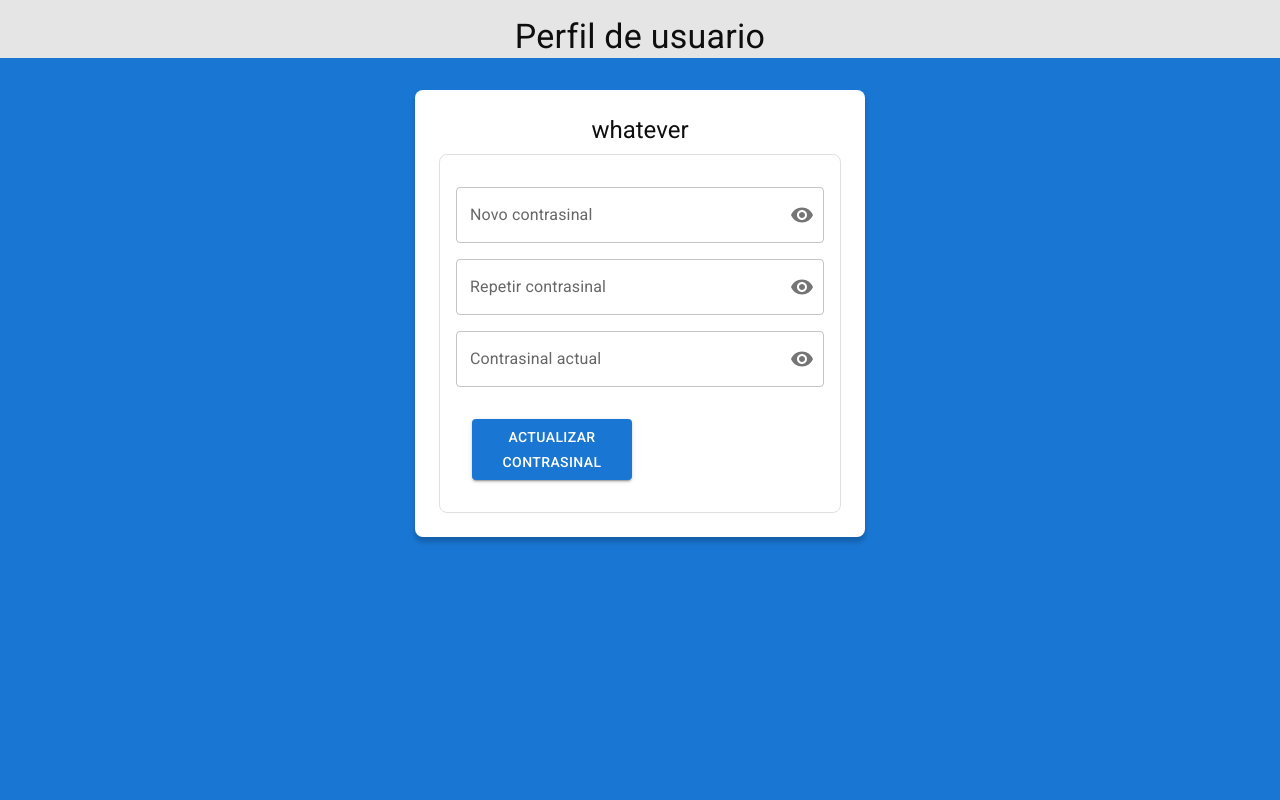
Test case: Profile › should display validation errors when form is submitted with invalid data
Click the button "Actualizar contrasinal" at coordinates (552, 450), box [472, 419, 632, 480]
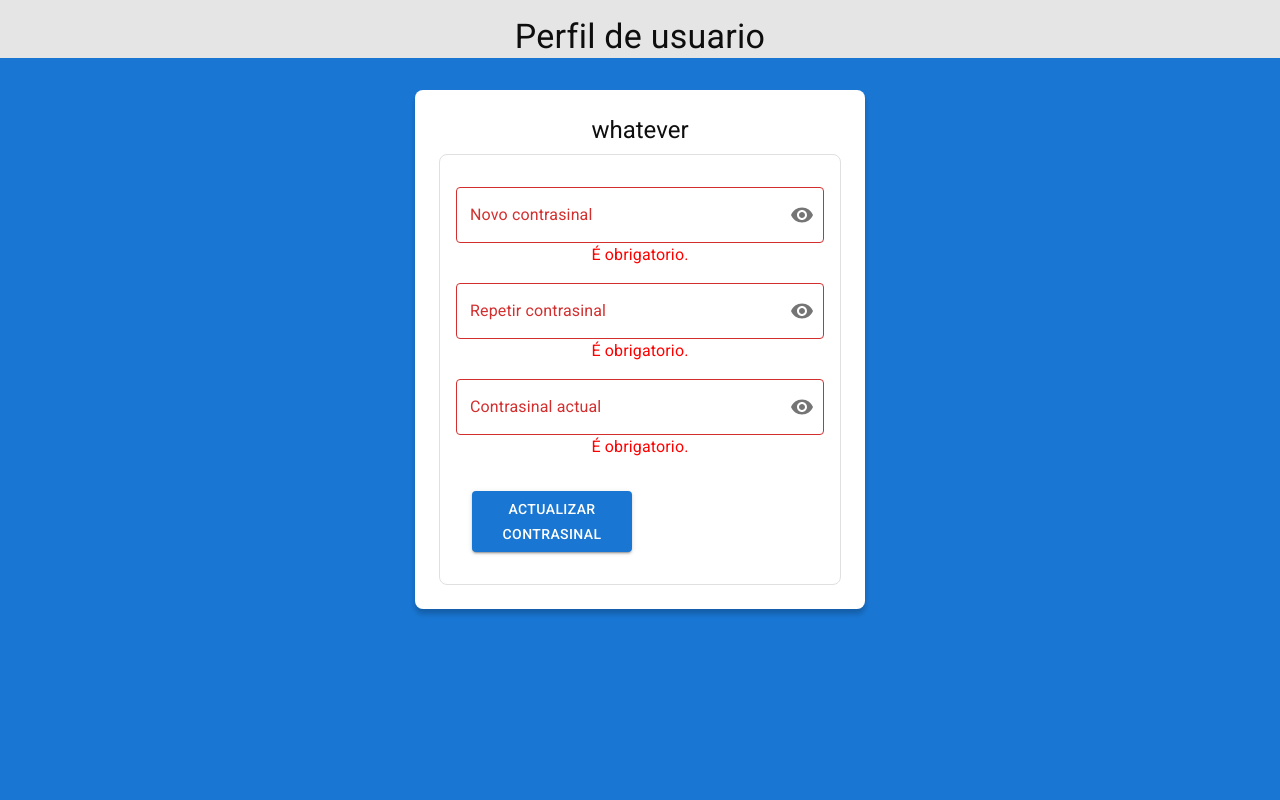
Now the text "É obrigatorio." is shown 3 times, box [591, 245, 688, 264]; [591, 341, 688, 360]; [591, 437, 688, 456]
